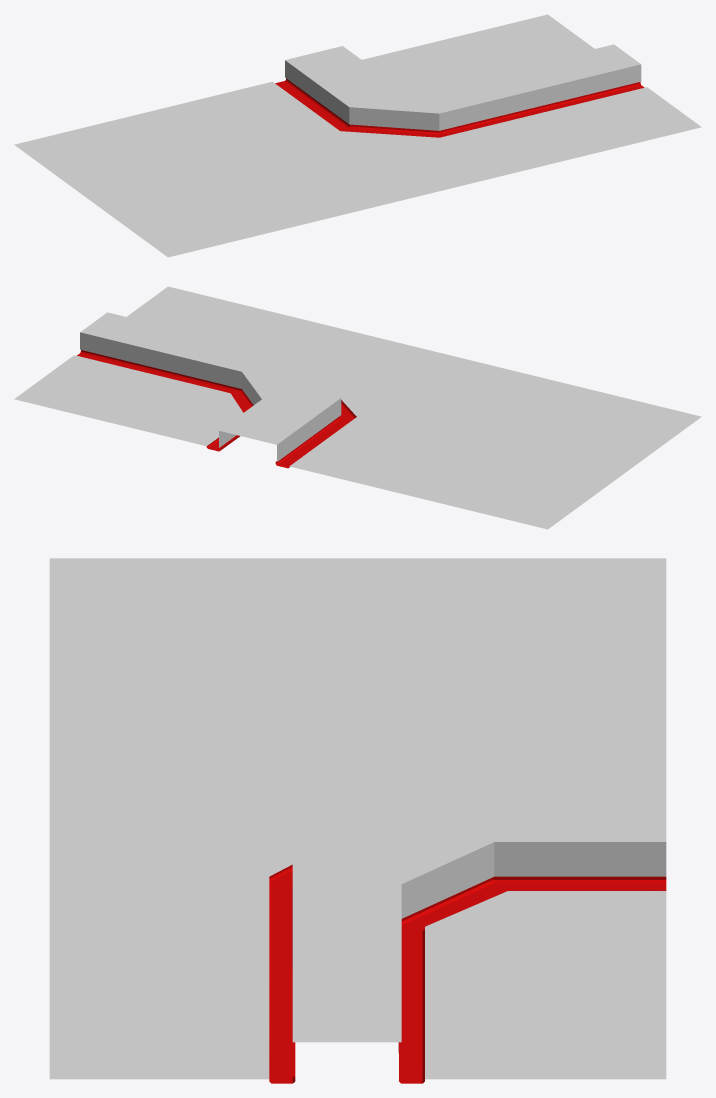
File: MSG_Lr_ceiling_1.FBX
3 views of the same model, one above another, from view 1: azimuth 30°, elevation 25°; view 2: azimuth 150°, elevation 25°; view 3: azimuth 270°, elevation 25° (orthographic). The views are drawn at different scales.
Visible parts, largest first — view 1: Plane057; view 2: Plane057; view 3: Plane057.
Part boxes in pixels (bbox=[...]): Plane057: bbox=[14, 14, 701, 257]; Plane057: bbox=[14, 286, 701, 529]; Plane057: bbox=[49, 558, 666, 1083].
Bounding box in the file's own units: 1100 × 40.97 × 550.
